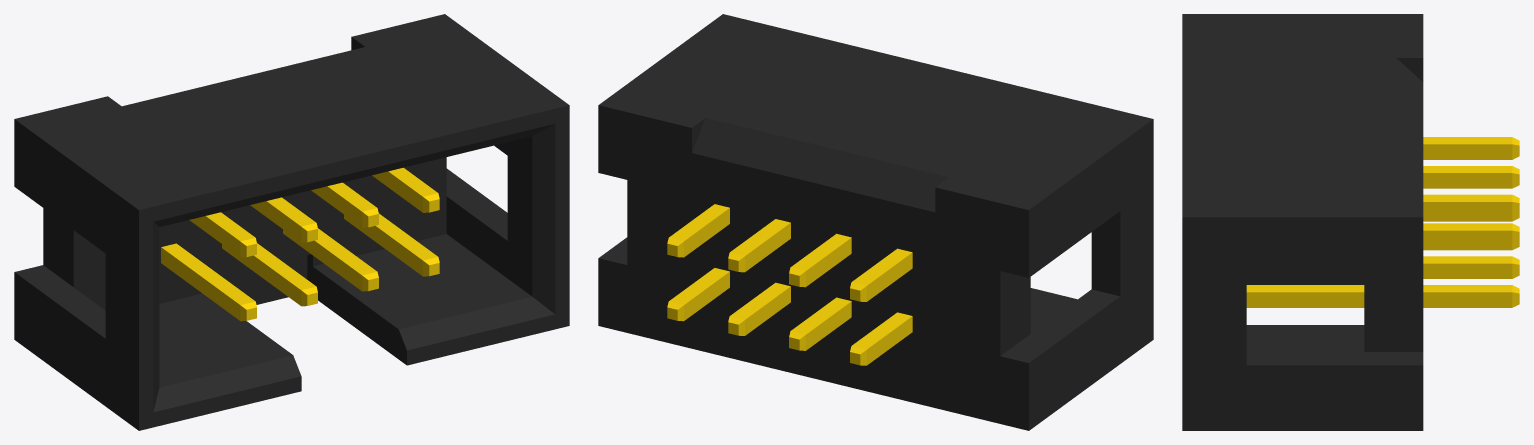
The model's file is DS1013-8S (IDC-8MS CONNFLY).obj.
3 views of the same model, side by side, from view 1: azimuth 30°, elevation 25°; view 2: azimuth 150°, elevation 25°; view 3: azimuth 270°, elevation 25° (orthographic). The views are drawn at different scales.
Visible parts, largest first — view 1: DS1013-8S_(IDC-8MS_CONNFLY); view 2: DS1013-8S_(IDC-8MS_CONNFLY); view 3: DS1013-8S_(IDC-8MS_CONNFLY).
Boxes of the visible parts, x1,y1,x2,y2 form: DS1013-8S_(IDC-8MS_CONNFLY): (14,14,569,430); DS1013-8S_(IDC-8MS_CONNFLY): (598,14,1153,430); DS1013-8S_(IDC-8MS_CONNFLY): (1182,14,1519,430).
Bounding box in the file's own units: 0.0156 × 0.00774 × 0.011.
